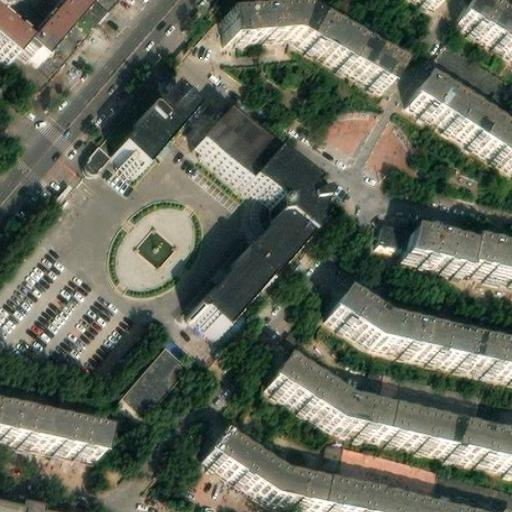building: (262, 364, 512, 472), (203, 435, 449, 512), (327, 290, 512, 376), (223, 3, 399, 85), (233, 151, 327, 282), (402, 77, 512, 165), (108, 86, 190, 174), (318, 444, 437, 501), (187, 254, 261, 335), (402, 221, 512, 274), (188, 114, 263, 185), (122, 339, 190, 410), (82, 137, 111, 167), (379, 215, 410, 242), (0, 496, 44, 512)
